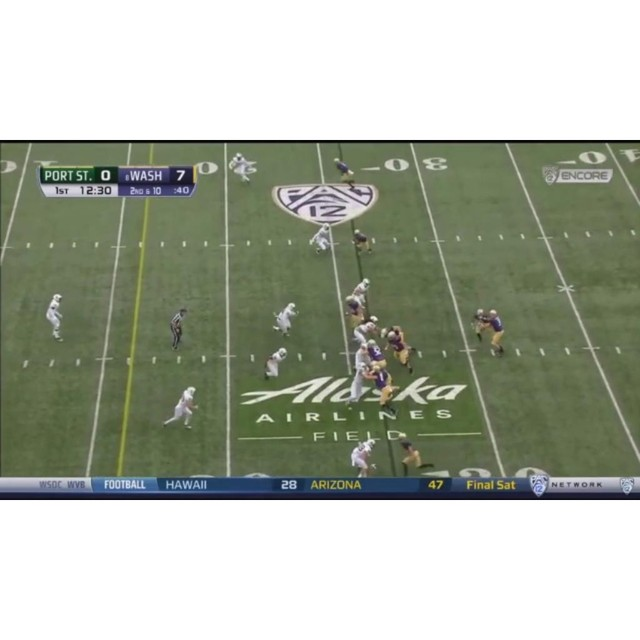american-football-player: (395, 432, 436, 476), (369, 365, 399, 420), (384, 326, 416, 375), (162, 386, 197, 429), (344, 361, 371, 409), (350, 439, 377, 478), (486, 309, 506, 358), (45, 294, 64, 342), (229, 152, 256, 185), (273, 303, 299, 337), (352, 316, 380, 345), (346, 278, 371, 310), (263, 348, 287, 380), (333, 158, 356, 190), (310, 223, 332, 256), (351, 339, 372, 373), (367, 340, 389, 372), (471, 308, 489, 343), (352, 229, 374, 256)
referee: (170, 307, 188, 349)
